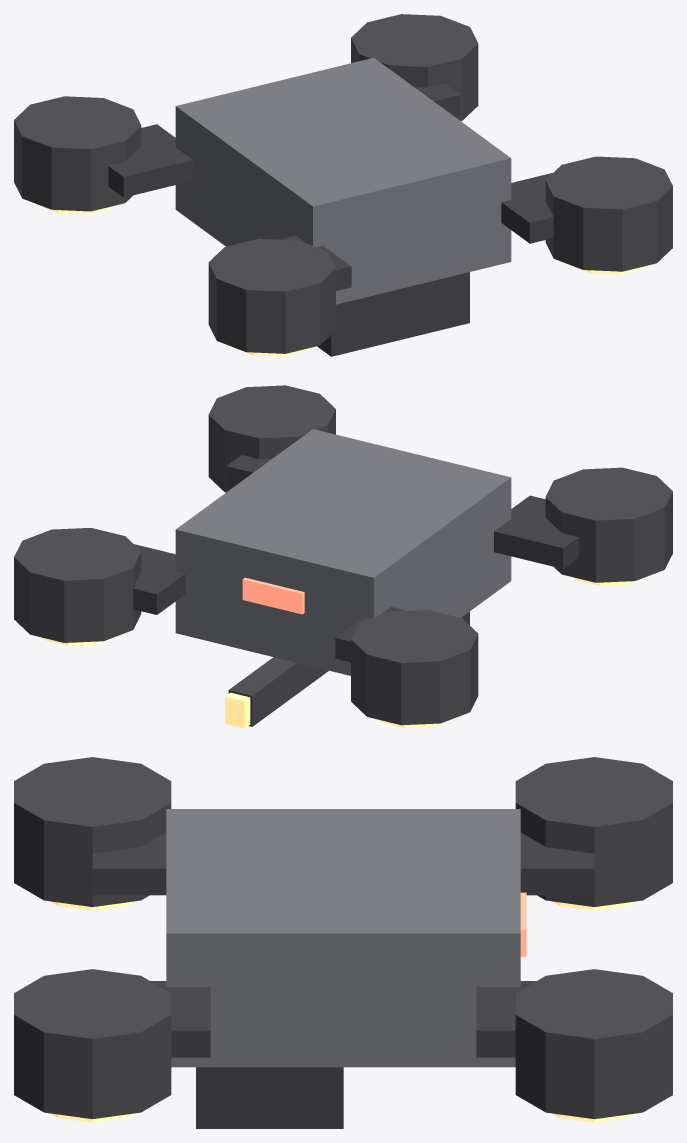
The model's file is ship_XS_MINING_DRONE.glb.
The picture shows the model from 3 angles, top to bottom: view 1: azimuth 30°, elevation 25°; view 2: azimuth 150°, elevation 25°; view 3: azimuth 270°, elevation 25°; orthographic projection. The views are drawn at different scales.
Parts seen in each view (by area): view 1: XS_MINING_DRONE_Hull-col, XS_MINING_DRONE_Engine, XS_MINING_DRONE_Trim, XS_MINING_DRONE_EngineGlow; view 2: XS_MINING_DRONE_Hull-col, XS_MINING_DRONE_Engine, XS_MINING_DRONE_Trim, XS_MINING_DRONE_Lights, XS_MINING_DRONE_EngineGlow; view 3: XS_MINING_DRONE_Hull-col, XS_MINING_DRONE_Engine, XS_MINING_DRONE_Trim, XS_MINING_DRONE_EngineGlow.
Boxes of the visible parts, left/top/right/bottom form: XS_MINING_DRONE_Hull-col: left=175, top=57, right=511, bottom=304; XS_MINING_DRONE_Engine: left=14, top=14, right=672, bottom=353; XS_MINING_DRONE_Trim: left=108, top=83, right=553, bottom=356; XS_MINING_DRONE_EngineGlow: left=38, top=204, right=645, bottom=356; XS_MINING_DRONE_Hull-col: left=175, top=429, right=511, bottom=675; XS_MINING_DRONE_Engine: left=14, top=385, right=672, bottom=726; XS_MINING_DRONE_Trim: left=133, top=455, right=578, bottom=662; XS_MINING_DRONE_Lights: left=242, top=577, right=304, bottom=614; XS_MINING_DRONE_EngineGlow: left=41, top=576, right=648, bottom=728; XS_MINING_DRONE_Hull-col: left=166, top=809, right=520, bottom=1067; XS_MINING_DRONE_Engine: left=14, top=757, right=672, bottom=1119; XS_MINING_DRONE_Trim: left=92, top=832, right=594, bottom=1128; XS_MINING_DRONE_EngineGlow: left=51, top=901, right=635, bottom=1122.
Size of the model in its own units: 2.26 by 0.8 by 2.23.
